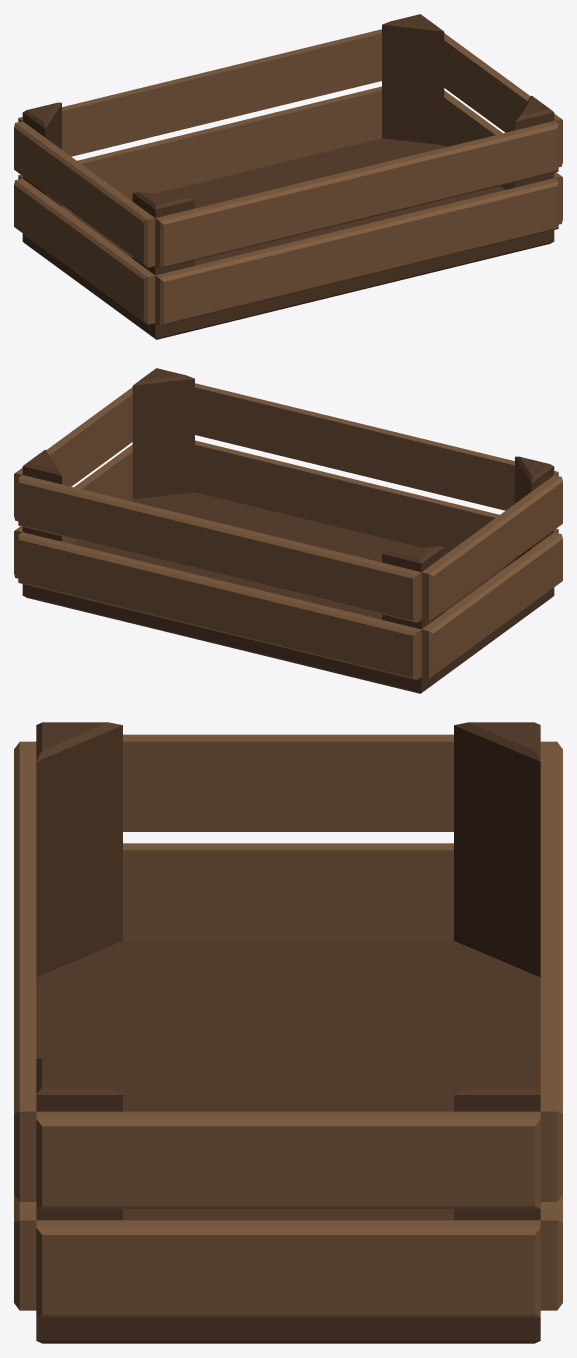
File: fruit Crate.fbx
The picture shows the model from 3 angles, top to bottom: view 1: azimuth 30°, elevation 25°; view 2: azimuth 150°, elevation 25°; view 3: azimuth 270°, elevation 25°; orthographic projection. The views are drawn at different scales.
Parts seen in each view (by area): view 1: Cube; view 2: Cube; view 3: Cube.
Boxes of the visible parts, x1,y1,x2,y2 form: Cube: [14, 14, 562, 339]; Cube: [14, 368, 562, 693]; Cube: [14, 722, 562, 1343].
Size of the model in its own units: 0.6 by 0.1844 by 0.3581.
